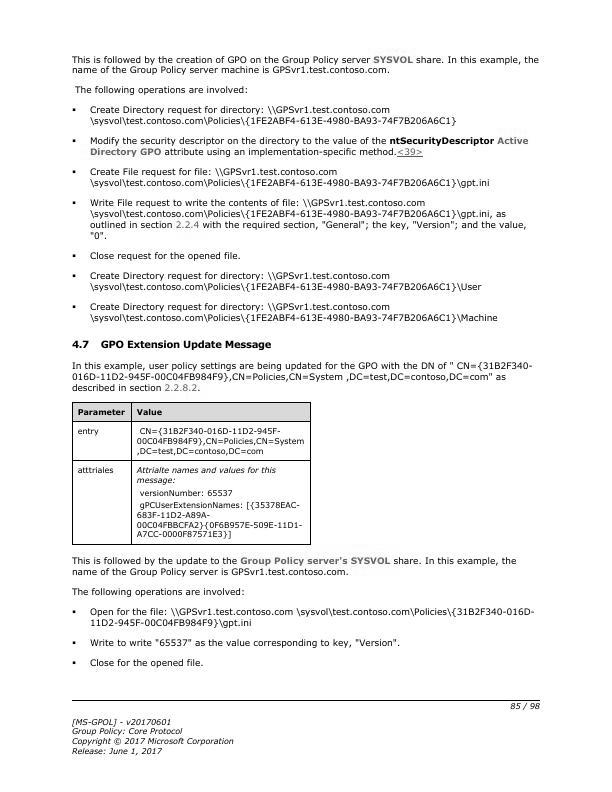table: (72, 402, 311, 546)
text: (88, 197, 528, 241), (71, 359, 535, 394), (68, 52, 542, 76), (87, 135, 531, 160), (69, 554, 517, 578), (87, 165, 492, 189), (87, 269, 484, 293), (87, 301, 501, 324), (87, 606, 538, 627), (87, 103, 460, 128), (69, 714, 235, 757), (88, 636, 404, 650), (70, 337, 273, 352), (70, 585, 248, 599), (73, 83, 249, 97), (87, 250, 244, 262), (87, 656, 205, 670)
